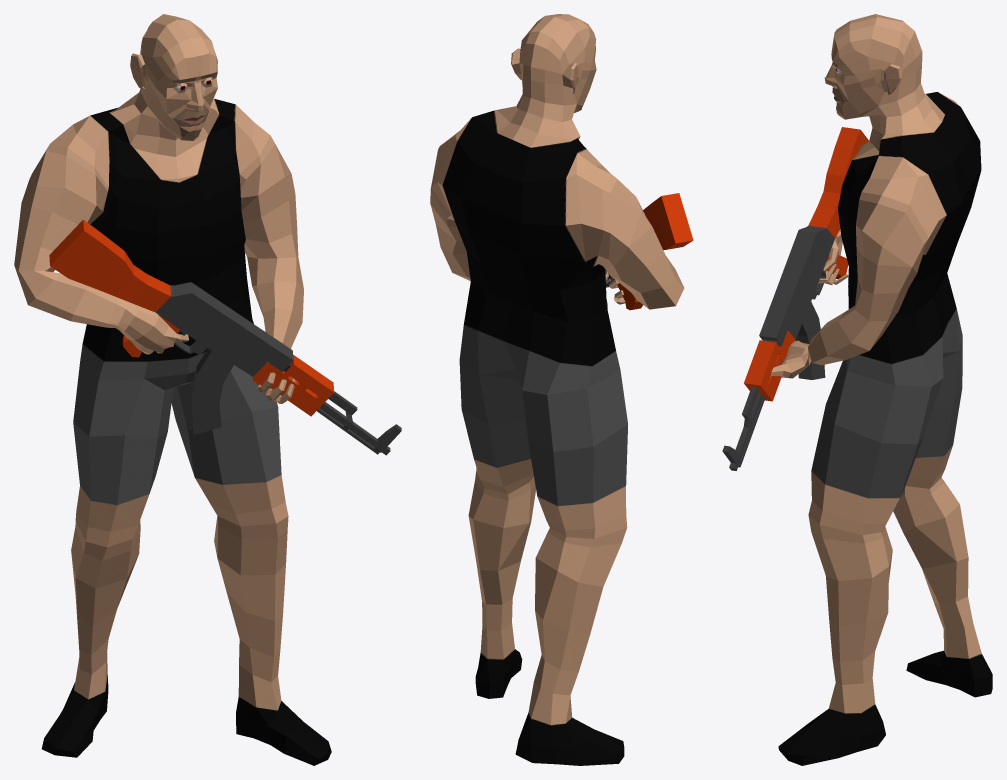
Rendered from PlayerIdle(42).obj.
3 views of the same model, side by side, from view 1: azimuth 30°, elevation 25°; view 2: azimuth 150°, elevation 25°; view 3: azimuth 270°, elevation 25° (orthographic). The views are drawn at different scales.
Visible parts, largest first — view 1: Plane002, Object001; view 2: Plane002, Object001; view 3: Plane002, Object001.
Boxes of the visible parts, x1,y1,x2,y2 form: Plane002: [14, 14, 331, 765]; Object001: [49, 219, 401, 455]; Plane002: [430, 14, 684, 765]; Object001: [605, 193, 693, 310]; Plane002: [770, 14, 992, 765]; Object001: [722, 127, 868, 470].
Size of the model in its own units: 745 by 1805 by 636.
